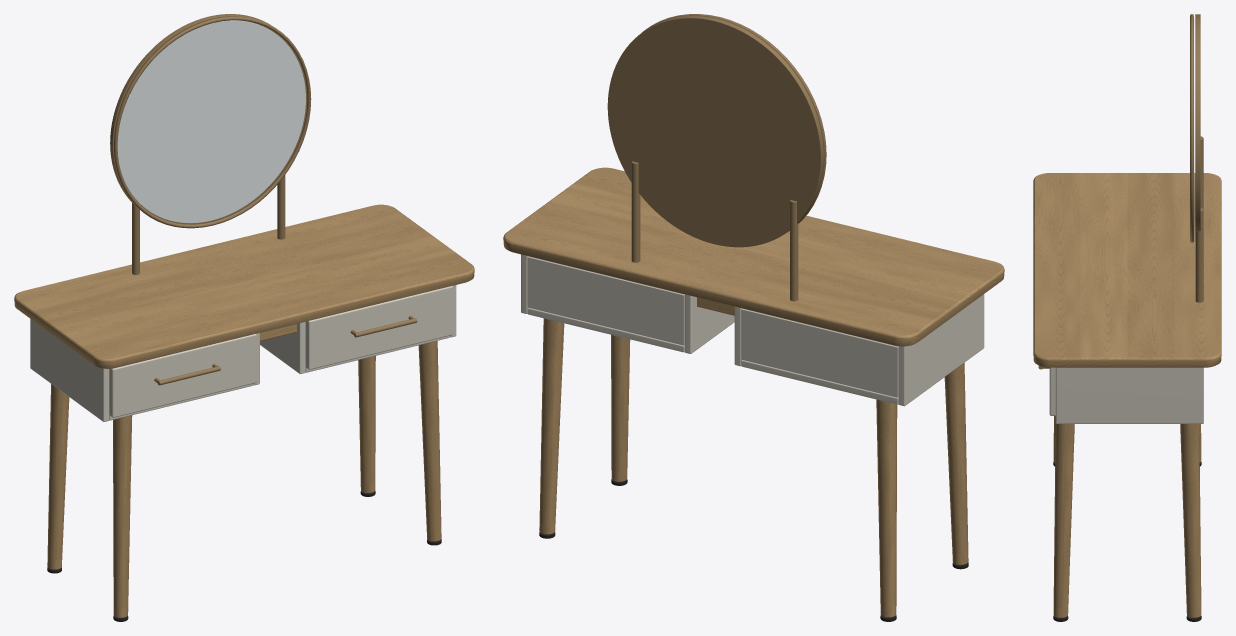
3 views of the same model, side by side, from view 1: azimuth 30°, elevation 25°; view 2: azimuth 150°, elevation 25°; view 3: azimuth 270°, elevation 25° (orthographic). The views are drawn at different scales.
Parts seen in each view (by area): view 1: Oak vanity worktop, Round silver mirror face, Ivory vanity drawer front, Ivory vanity drawer front.001, Ivory vanity drawer box side, Tapered solid-wood leg, Tapered solid-wood leg.002, Tapered solid-wood leg.001, Mirror perimeter frame, Tapered solid-wood leg.003, Round mirror back, Ivory vanity drawer box side.002; view 2: Round mirror back, Oak vanity worktop, Ivory vanity drawer box back.001, Ivory vanity drawer box back, Ivory vanity drawer box side, Tapered solid-wood leg.001, Tapered solid-wood leg.003, Tapered solid-wood leg, Tapered solid-wood leg.002, Ivory vanity drawer box side.002, Ivory vanity drawer box deck, Ivory vanity drawer box deck.002 (+3 smaller); view 3: Oak vanity worktop, Ivory vanity drawer box side.003, Tapered solid-wood leg.002, Tapered solid-wood leg.003, Round mirror back, Mirror perimeter frame, Integral mirror upright.001, Ivory vanity drawer front.001, Integral mirror upright.
Part boxes in pixels (left/top/right/bottom): Oak vanity worktop: left=14, top=204, right=474, bottom=368; Round silver mirror face: left=117, top=20, right=305, bottom=223; Ivory vanity drawer front: left=109, top=334, right=256, bottom=417; Ivory vanity drawer front.001: left=305, top=286, right=452, bottom=369; Ivory vanity drawer box side: left=30, top=319, right=109, bottom=421; Tapered solid-wood leg: left=113, top=415, right=132, bottom=617; Tapered solid-wood leg.002: left=418, top=341, right=441, bottom=541; Tapered solid-wood leg.001: left=47, top=384, right=69, bottom=569; Mirror perimeter frame: left=113, top=16, right=311, bottom=228; Tapered solid-wood leg.003: left=358, top=356, right=375, bottom=493; Round mirror back: left=110, top=14, right=307, bottom=224; Ivory vanity drawer box side.002: left=260, top=321, right=305, bottom=374; Round mirror back: left=607, top=16, right=823, bottom=247; Oak vanity worktop: left=503, top=167, right=1004, bottom=346; Ivory vanity drawer box back.001: left=527, top=256, right=684, bottom=345; Ivory vanity drawer box back: left=741, top=308, right=898, bottom=397; Ivory vanity drawer box side: left=898, top=294, right=984, bottom=406; Tapered solid-wood leg.001: left=876, top=399, right=897, bottom=617; Tapered solid-wood leg.003: left=539, top=318, right=564, bottom=534; Tapered solid-wood leg: left=944, top=363, right=968, bottom=565; Tapered solid-wood leg.002: left=611, top=335, right=630, bottom=481; Ivory vanity drawer box side.002: left=684, top=294, right=734, bottom=353; Ivory vanity drawer box deck: left=741, top=360, right=898, bottom=404; Ivory vanity drawer box deck.002: left=527, top=307, right=684, bottom=352; Oak vanity worktop: left=1033, top=173, right=1221, bottom=367; Ivory vanity drawer box side.003: left=1055, top=367, right=1203, bottom=423; Tapered solid-wood leg.002: left=1053, top=423, right=1074, bottom=617; Tapered solid-wood leg.003: left=1180, top=424, right=1201, bottom=617; Round mirror back: left=1195, top=14, right=1200, bottom=242; Mirror perimeter frame: left=1190, top=14, right=1193, bottom=242; Integral mirror upright.001: left=1195, top=208, right=1203, bottom=302; Ivory vanity drawer front.001: left=1049, top=367, right=1055, bottom=415; Integral mirror upright: left=1200, top=136, right=1203, bottom=208.
Size of the model in its own units: 1.1 by 1.43 by 0.47.
6 materials, 2 textured.
